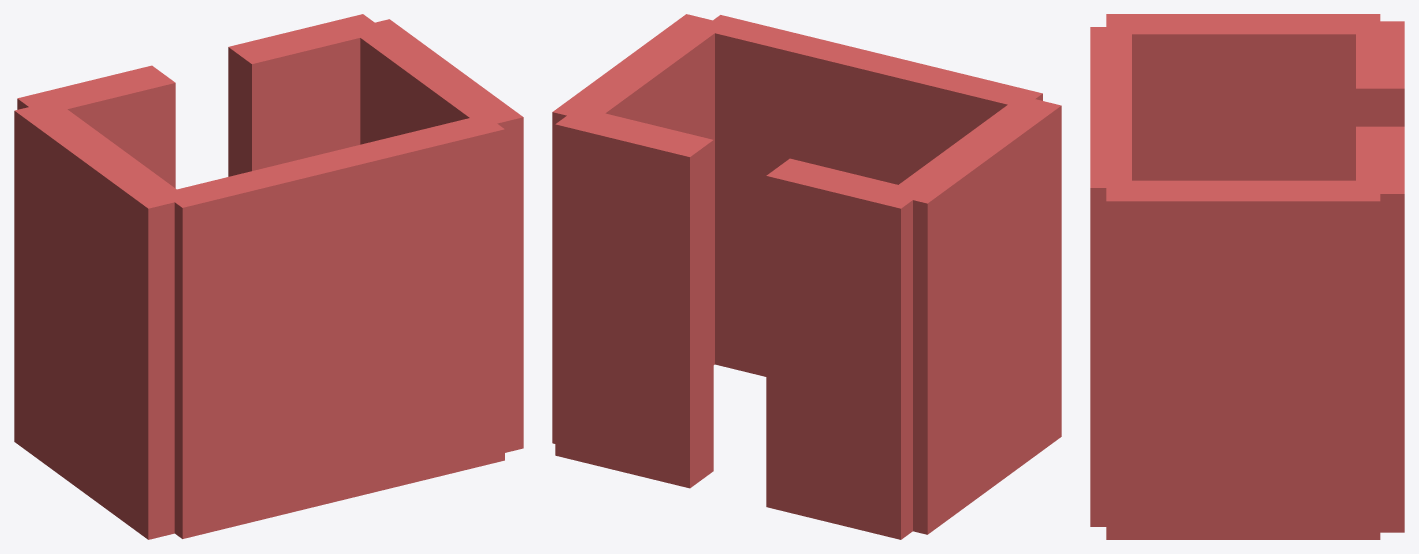
Rendered from luffy_camisa.glb.
3 renders of one model, left to right at view 1: azimuth 30°, elevation 25°; view 2: azimuth 150°, elevation 25°; view 3: azimuth 270°, elevation 25°, orthographic. The views are drawn at different scales.
Visible parts, largest first — view 1: LuffyCamisa; view 2: LuffyCamisa; view 3: LuffyCamisa.
Part boxes in pixels (<box>): LuffyCamisa: <box>14,14,523,539</box>; LuffyCamisa: <box>552,14,1061,539</box>; LuffyCamisa: <box>1090,14,1404,539</box>.
Bounding box in the file's own units: 0.64 × 0.54 × 0.4538.
